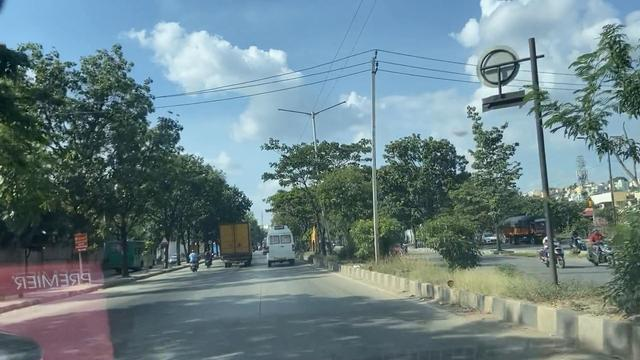HMV: (206, 221, 257, 266)
